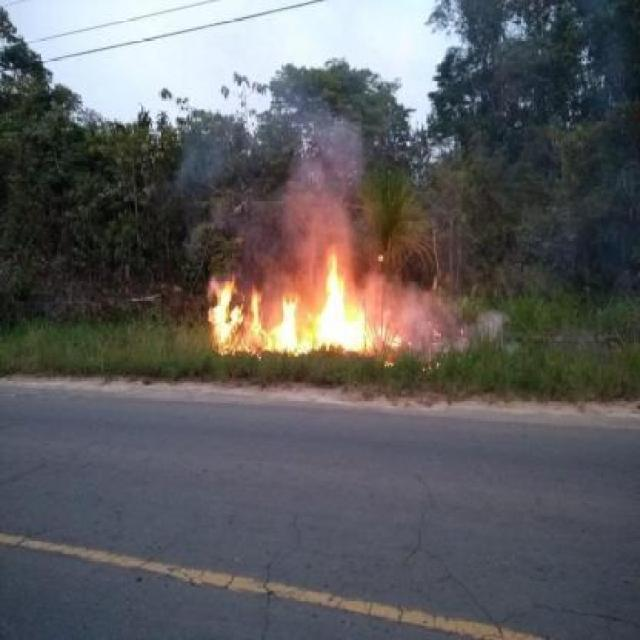Fire: (314, 250, 372, 352), (206, 277, 265, 357), (267, 302, 310, 355)
